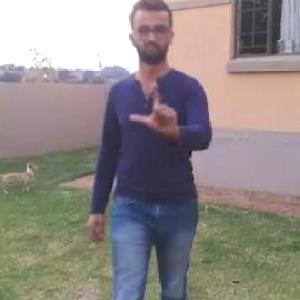land_hand: (129, 79, 181, 141)
